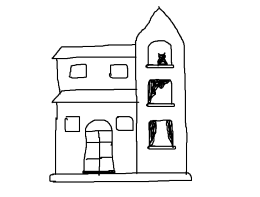door: (80, 119, 116, 178)
open_window: (147, 118, 175, 150), (145, 39, 173, 68), (147, 78, 175, 107), (114, 115, 133, 132), (109, 64, 129, 79), (64, 115, 81, 132), (68, 64, 87, 78)
roof: (52, 86, 137, 107), (51, 44, 135, 58)
single_line_roof: (135, 5, 188, 40)
wall: (132, 38, 189, 176), (53, 100, 139, 176), (53, 53, 139, 93)
